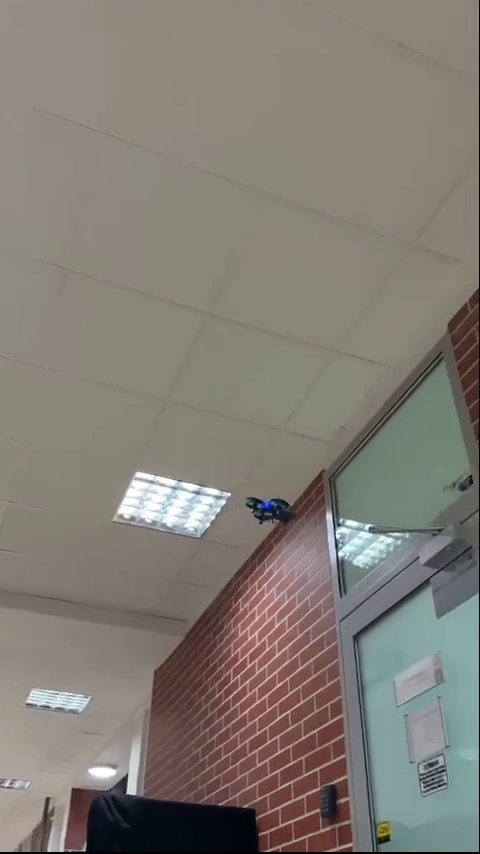drone: (249, 494, 289, 527)
